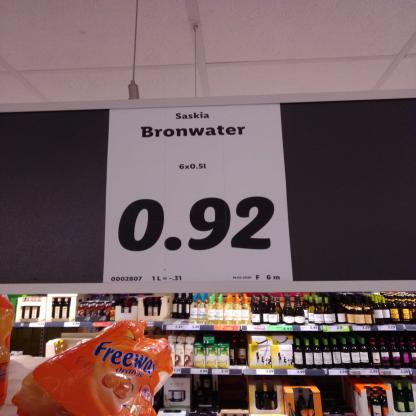prtg: (104, 104, 295, 285)
